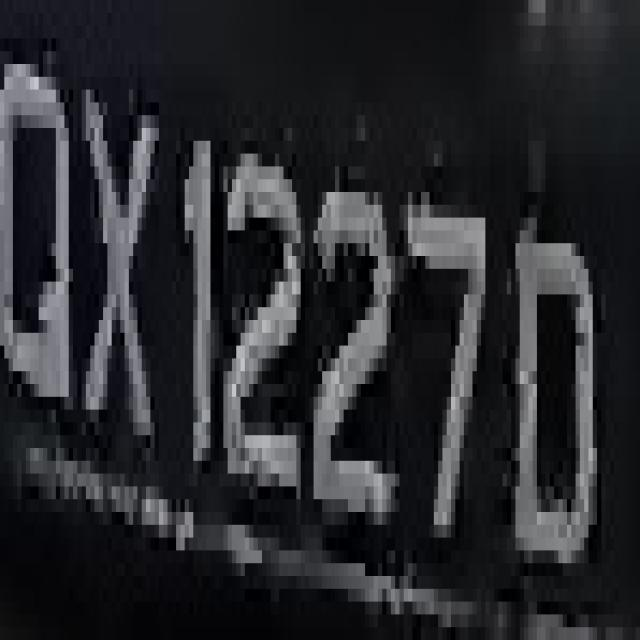1: (172, 38, 223, 500)
2: (219, 76, 309, 538), (305, 180, 412, 550)
7: (412, 141, 494, 614)
D: (498, 154, 606, 588)
Q: (8, 39, 82, 474)
X: (82, 51, 172, 499)
